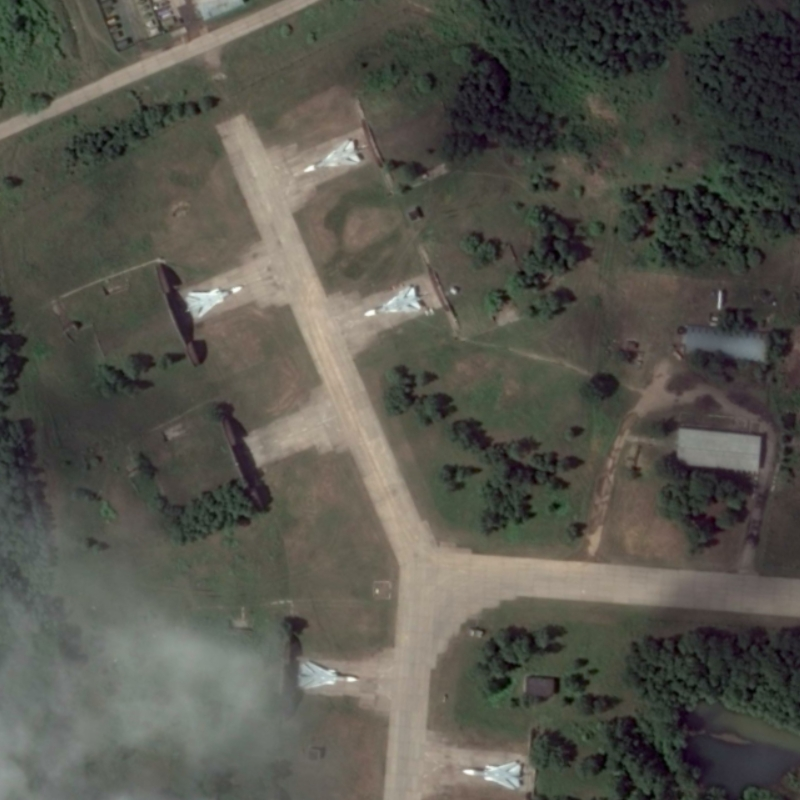A20: (183, 284, 244, 320), (302, 138, 362, 174), (362, 284, 423, 318), (461, 759, 523, 792), (296, 659, 360, 690)
